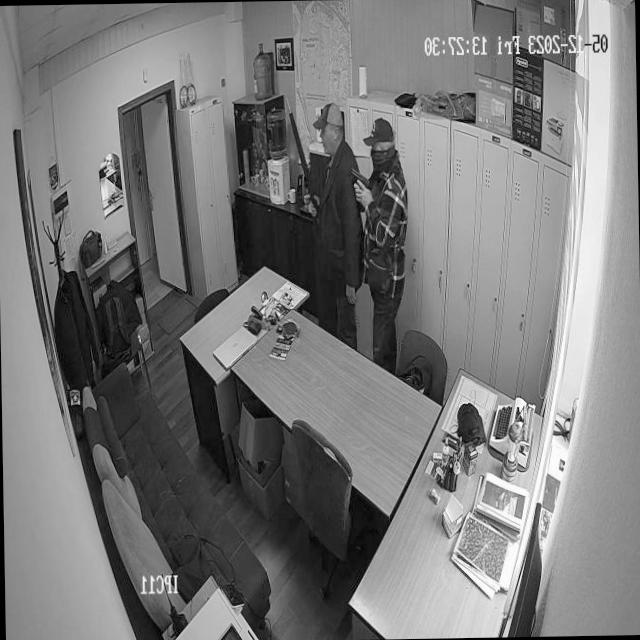gun: (280, 94, 330, 236), (350, 166, 372, 211)
person with a gun: (282, 98, 365, 276), (358, 111, 411, 355)
